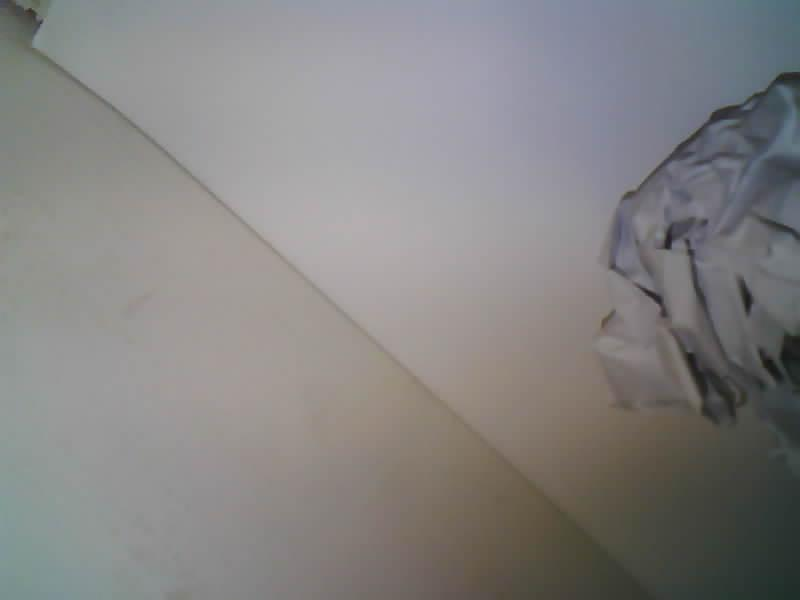biodegradable: (595, 74, 799, 471)
